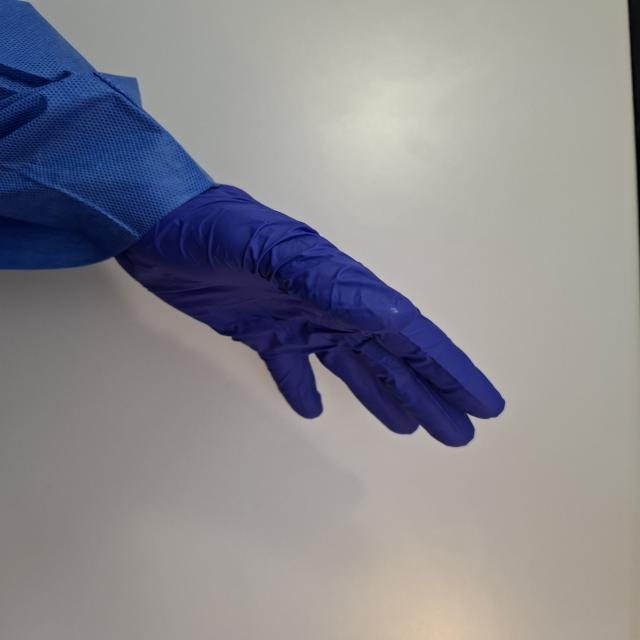glove_on: (101, 168, 508, 450)
